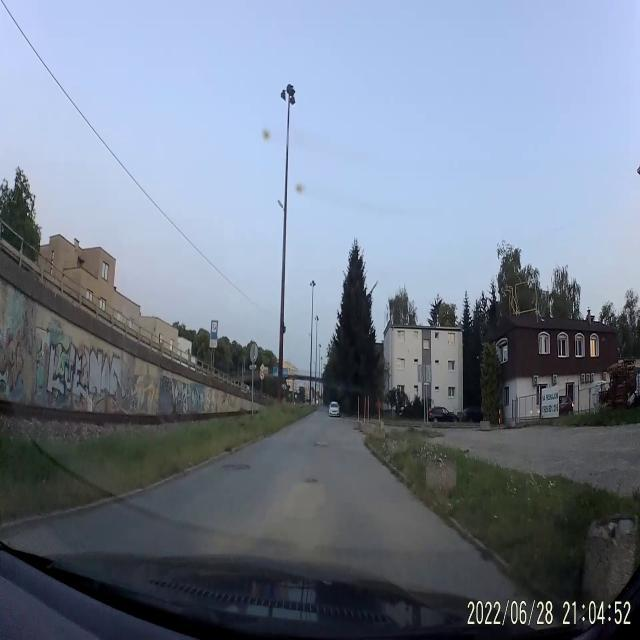Pothole: (220, 461, 254, 474), (312, 436, 330, 452), (302, 476, 322, 486)
